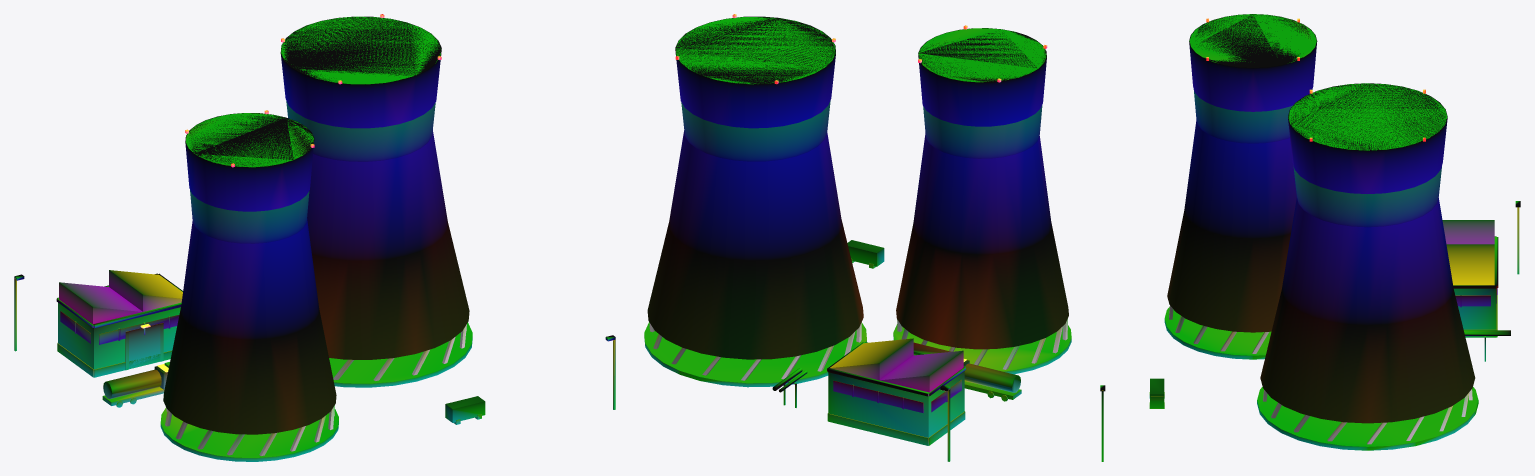
Rendered from Ind_Cooling_V5.fbx.
3 views of the same model, side by side, from view 1: azimuth 30°, elevation 25°; view 2: azimuth 150°, elevation 25°; view 3: azimuth 270°, elevation 25° (orthographic).
Parts seen in each view (by area): view 1: Ind_Cooling_V5_LOD0; view 2: Ind_Cooling_V5_LOD0; view 3: Ind_Cooling_V5_LOD0.
Boxes of the visible parts, <box> form: Ind_Cooling_V5_LOD0: <box>14,14,615,461</box>; Ind_Cooling_V5_LOD0: <box>644,14,1071,461</box>; Ind_Cooling_V5_LOD0: <box>1100,14,1520,461</box>.
Size of what is drawn, in the model's own units: 62.3 by 44.6 by 58.7.
